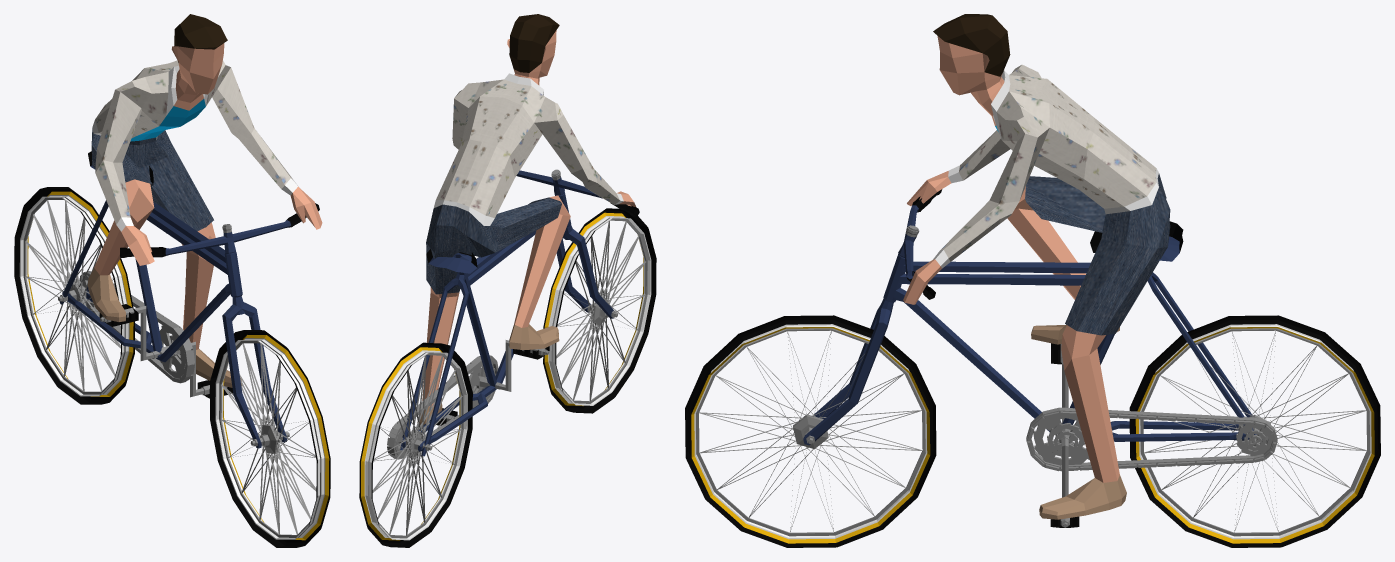
Rendered from SpringManA.001.glb.
3 views of the same model, side by side, from view 1: azimuth 30°, elevation 25°; view 2: azimuth 150°, elevation 25°; view 3: azimuth 270°, elevation 25° (orthographic). The views are drawn at different scales.
Visible parts, largest first — view 1: SpringManA.001; view 2: SpringManA.001; view 3: SpringManA.001.
Boxes of the visible parts, box(x1,y1,x2,y2) form: SpringManA.001: box(14, 14, 330, 547); SpringManA.001: box(359, 14, 656, 547); SpringManA.001: box(685, 14, 1380, 547).
Size of the model in its own units: 0.7301 by 1.66 by 1.97.
Materials: 6 (1 with a texture image).
